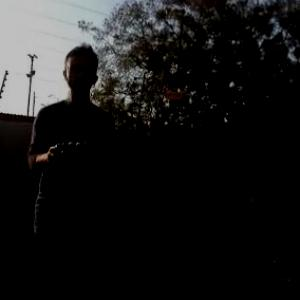follow: (24, 38, 122, 299)
